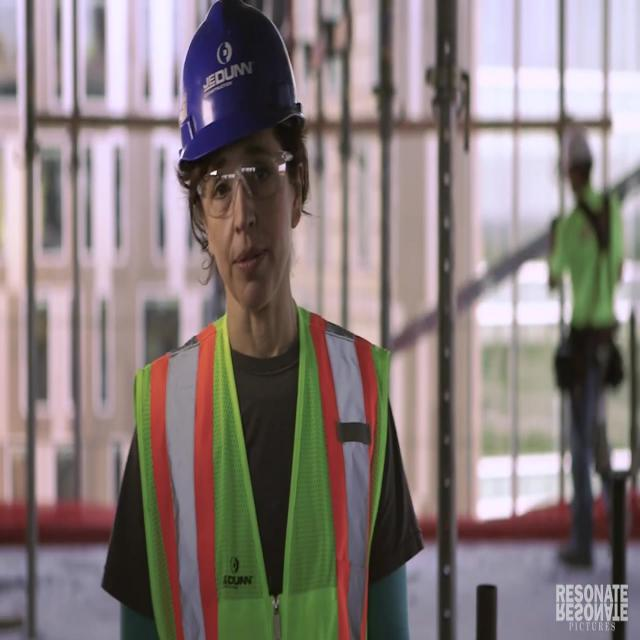Reflective-Jacket: (119, 304, 409, 638), (545, 191, 635, 362)
Safety-Helmet: (171, 2, 309, 178), (555, 124, 601, 186)
